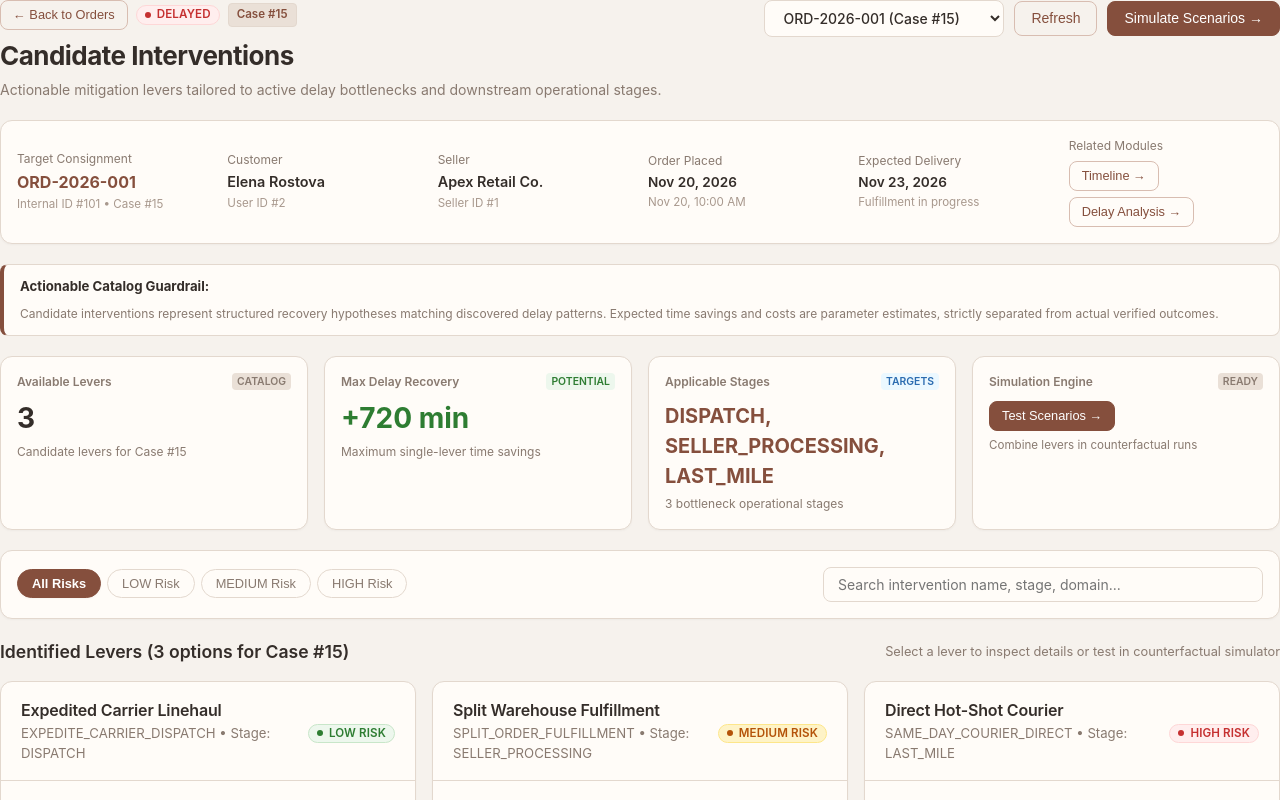
it: InterventionsPage Component › filters candidates by text search input
The image size is (1280, 800).
Expected: the heading "Expedited Carrier Linehaul" is shown, x1=21 y1=700 x2=222 y2=720
Type "Courier" into the field with placeholder "Search intervention name, stage, domain..." at (1043, 584), box x1=823 y1=567 x2=1263 y2=602
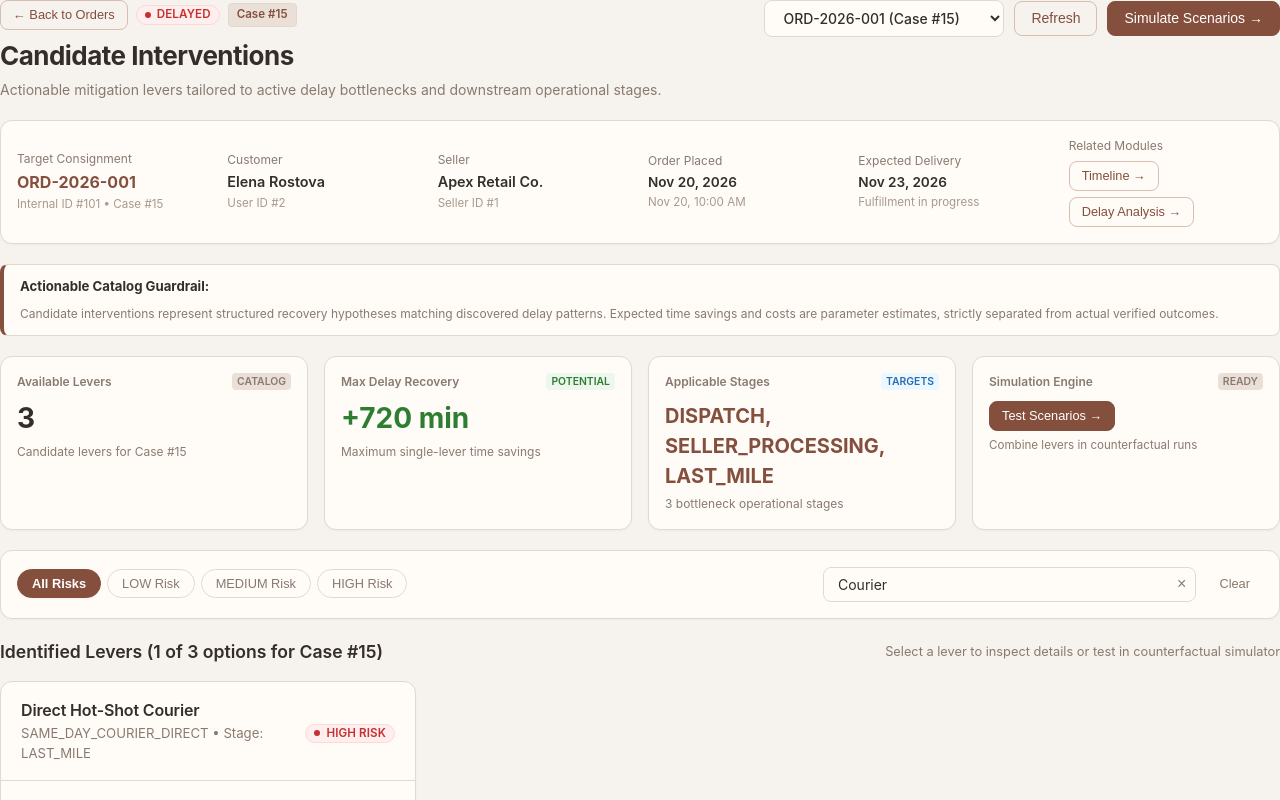
Expected: the heading "Direct Hot-Shot Courier" is shown, x1=21 y1=700 x2=199 y2=720
Expected: the heading "Expedited Carrier Linehaul" is gone
Expected: the heading "Split Warehouse Fulfillment" is gone
